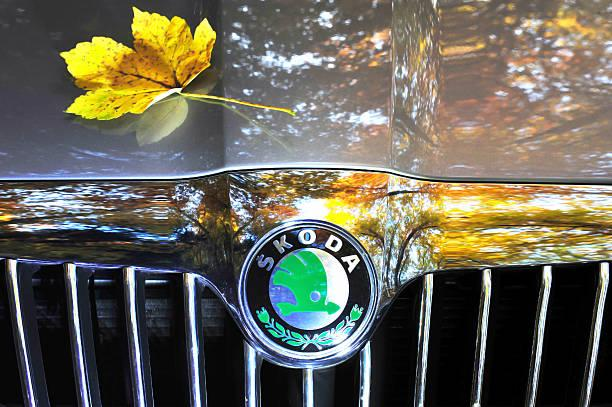skoda: (229, 214, 386, 371)
